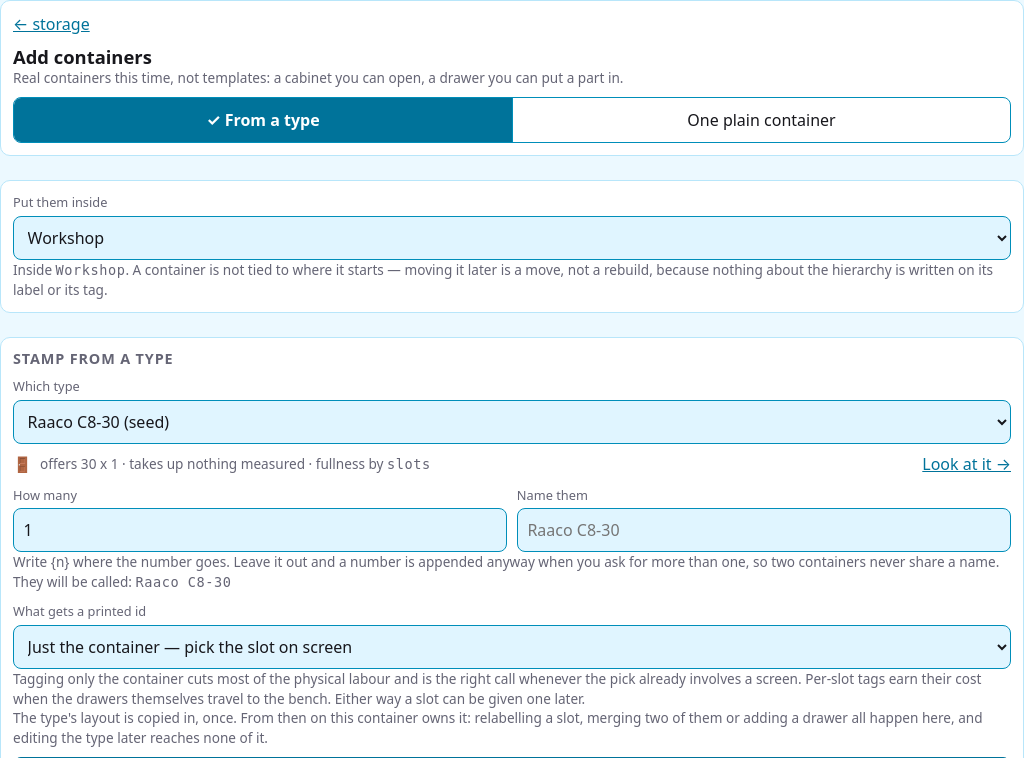
Test: stamping containers from a type › lists what it created, with links to each one
Replace the text in the field labelled "How many" with "2" at (260, 530), box [13, 508, 507, 552]
(page scrolled)
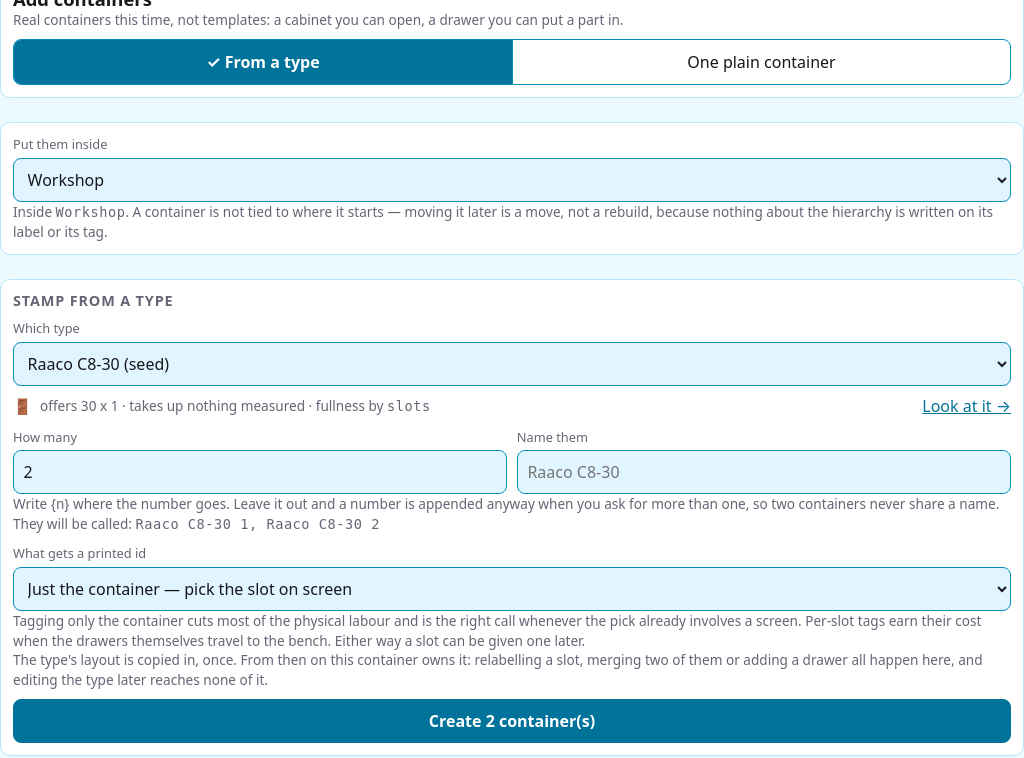
Click the button "Create 2 container(s)".
click(512, 721)  # box [13, 699, 1011, 743]
(page scrolled)
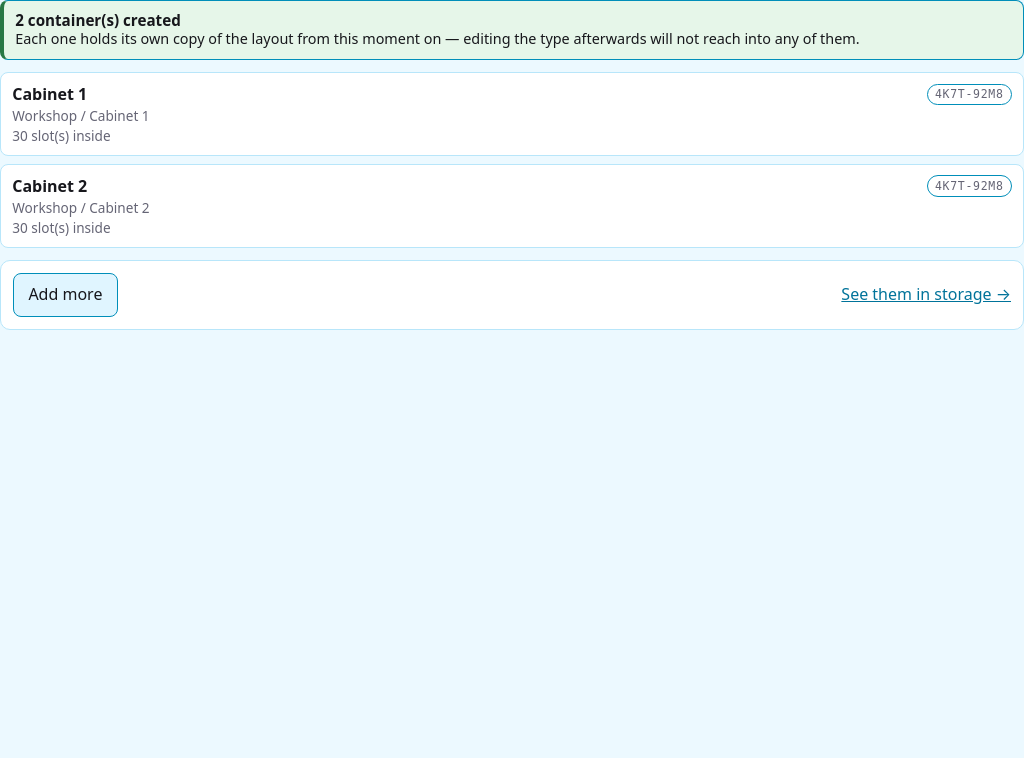
Now the heading "2 container(s) created" is shown, box [15, 10, 181, 30]
Now the text "own copy of the layout" is shown, box [15, 29, 860, 48]
